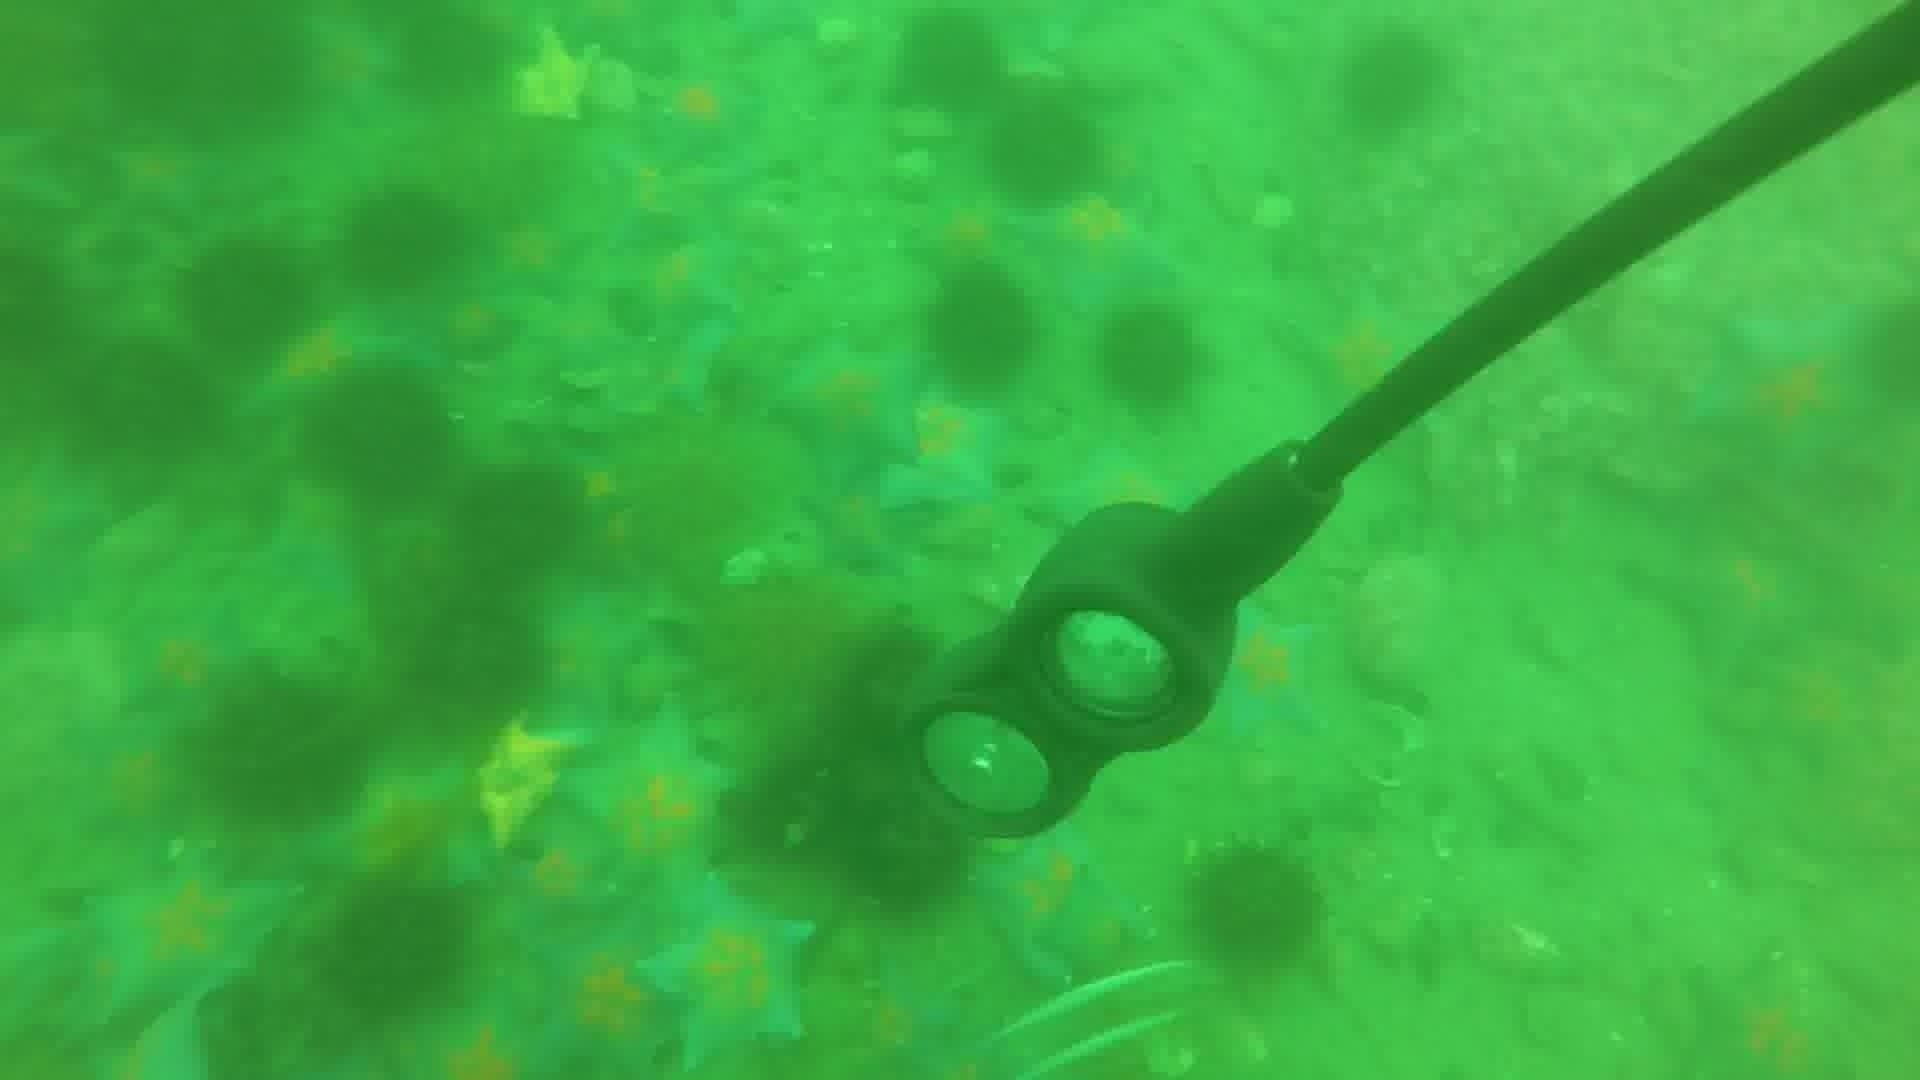echinus: (83, 3, 316, 133), (1153, 465, 1333, 626), (195, 673, 367, 828), (818, 753, 971, 918), (320, 880, 472, 1021), (305, 367, 456, 506), (69, 336, 218, 460), (1185, 841, 1327, 972), (404, 592, 547, 720), (175, 237, 311, 359), (450, 464, 583, 583), (922, 270, 1040, 396), (338, 183, 468, 295), (731, 750, 858, 864), (982, 98, 1102, 208), (833, 621, 942, 733), (893, 11, 1007, 116), (1336, 29, 1447, 137), (386, 11, 512, 105), (1095, 306, 1204, 413), (1290, 404, 1403, 504), (1, 243, 75, 367), (1855, 294, 1919, 411)
scallop: (501, 36, 597, 127)
starfish: (69, 856, 301, 1030), (1685, 302, 1898, 484), (560, 709, 738, 899), (638, 886, 822, 1069), (306, 756, 496, 902), (975, 822, 1145, 982), (1633, 534, 1820, 675), (520, 931, 686, 1077), (767, 335, 931, 483), (1279, 285, 1447, 423), (1671, 959, 1855, 1080), (1, 440, 113, 629), (1013, 189, 1178, 315), (243, 313, 407, 431), (115, 603, 262, 729), (518, 593, 654, 727), (1742, 645, 1880, 775), (62, 713, 198, 845), (1209, 605, 1332, 748), (396, 982, 579, 1076), (469, 713, 593, 851), (877, 396, 1013, 514), (1029, 443, 1189, 537), (837, 969, 969, 1076), (287, 15, 404, 125), (622, 236, 746, 339), (506, 816, 621, 927), (640, 65, 762, 166), (593, 140, 702, 251), (102, 135, 222, 228), (798, 476, 911, 575), (902, 195, 1022, 286), (475, 215, 593, 303), (527, 298, 632, 377), (433, 295, 527, 371), (721, 3, 825, 51)
